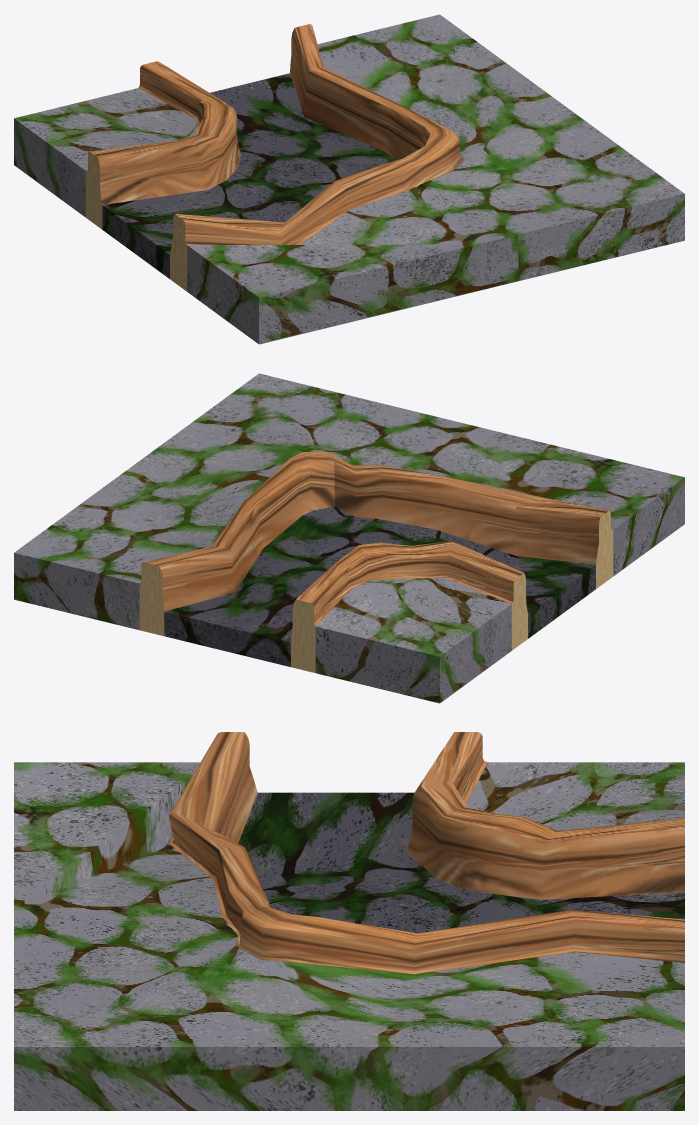
Rendered from LShape.fbx.
3 renders of one model, top to bottom at view 1: azimuth 30°, elevation 25°; view 2: azimuth 150°, elevation 25°; view 3: azimuth 270°, elevation 25°, orthographic. The views are drawn at different scales.
Parts seen in each view (by area): view 1: L_Shape; view 2: L_Shape; view 3: L_Shape.
Part boxes in pixels (x1=…): L_Shape: x1=14, y1=14, x2=684, y2=344; L_Shape: x1=14, y1=373, x2=684, y2=703; L_Shape: x1=14, y1=732, x2=684, y2=1110.
Bounding box in the file's own units: 201 × 32.34 × 200.
